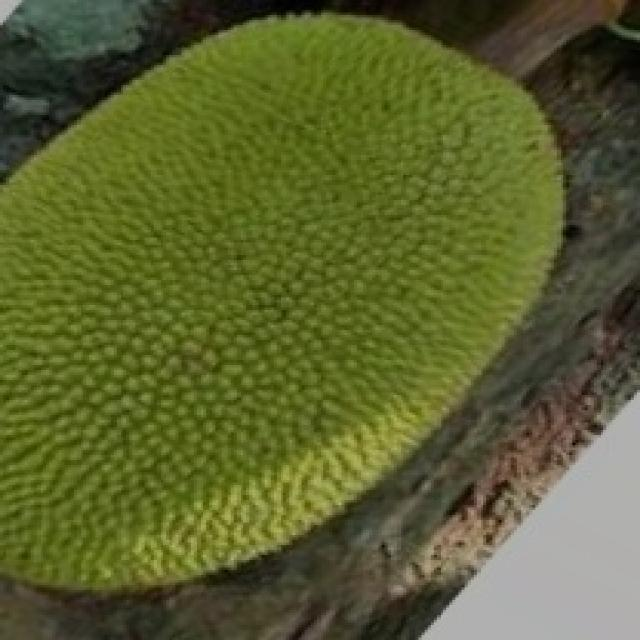Fruit: (0, 3, 400, 355), (0, 292, 397, 638), (256, 0, 610, 358)
